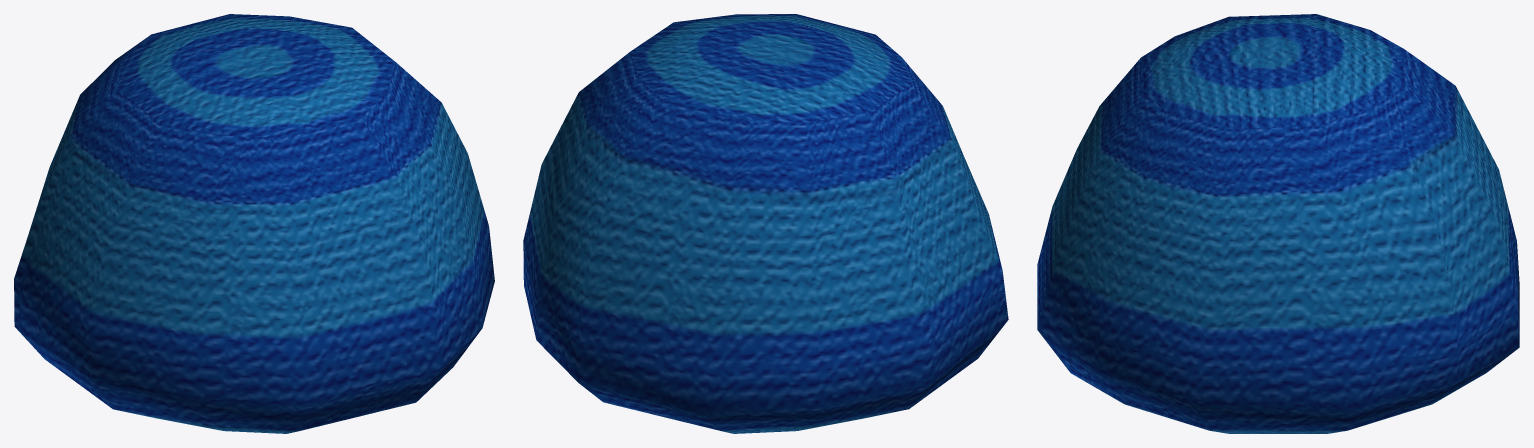
The model's file is HackeySack_Blue_Scaled.fbx.
3 views of the same model, side by side, from view 1: azimuth 30°, elevation 25°; view 2: azimuth 150°, elevation 25°; view 3: azimuth 270°, elevation 25° (orthographic).
Parts seen in each view (by area): view 1: Hackey4; view 2: Hackey4; view 3: Hackey4.
Part boxes in pixels (x1,y1,x2,y2): Hackey4: (14,14,494,433); Hackey4: (523,14,1008,433); Hackey4: (1037,14,1519,433).
Bounding box in the file's own units: 8.99 × 6.98 × 9.25.
